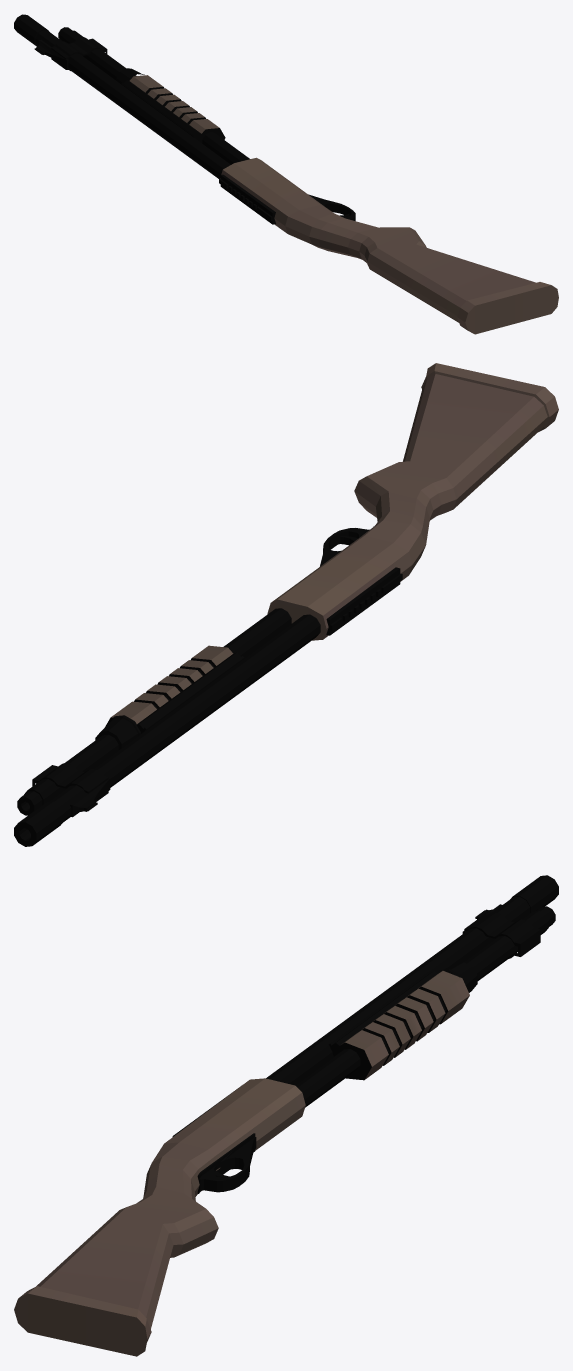
File: schrotflinte.glb
3 views of the same model, one above another, from view 1: azimuth 30°, elevation 25°; view 2: azimuth 150°, elevation 25°; view 3: azimuth 330°, elevation 25° (orthographic). The views are drawn at different scales.
Parts seen in each view (by area): view 1: Shotgun; view 2: Shotgun; view 3: Shotgun.
Part boxes in pixels (box(x1,y1,x2,y2)): Shotgun: box(14, 14, 558, 334); Shotgun: box(14, 363, 558, 846); Shotgun: box(14, 875, 558, 1356).
Size of the model in its own units: 0.4069 by 0.0846 by 2.14.
1 material, 1 textured.
